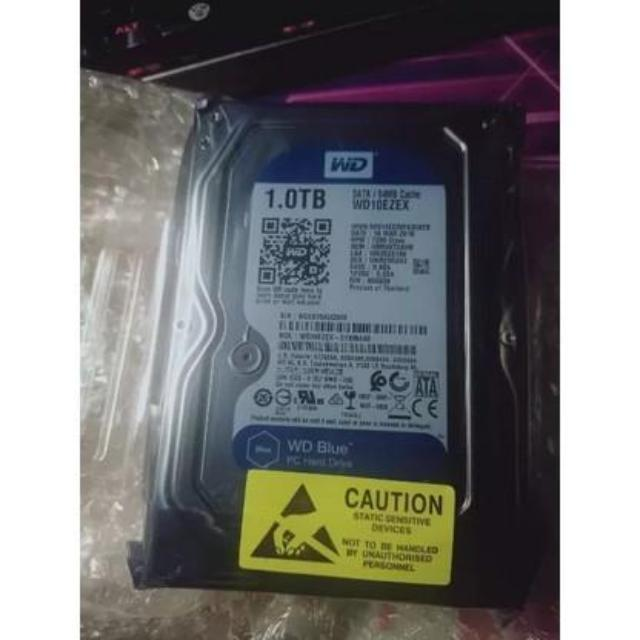DISK: (144, 77, 522, 614)
